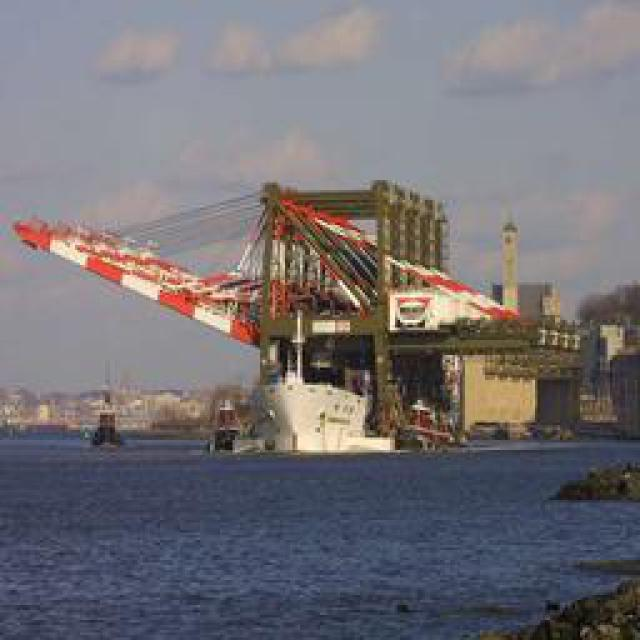Ship: (218, 309, 413, 476), (78, 390, 149, 473), (206, 394, 250, 464)
